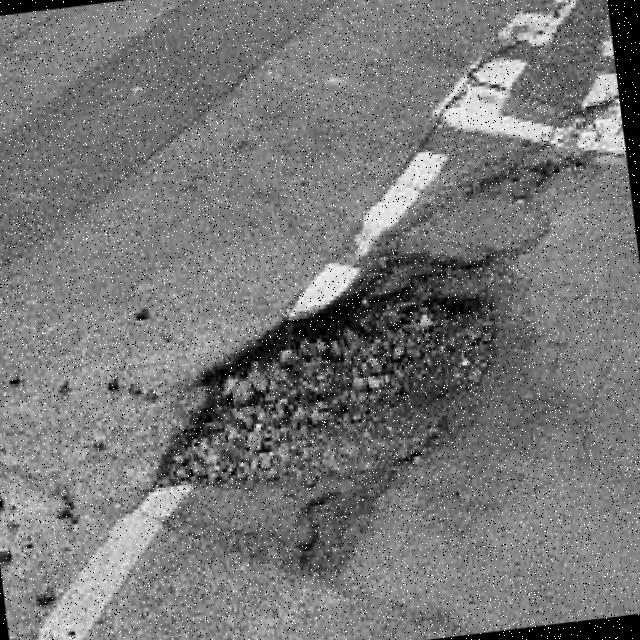pothole: (154, 252, 524, 488), (472, 150, 613, 198)
